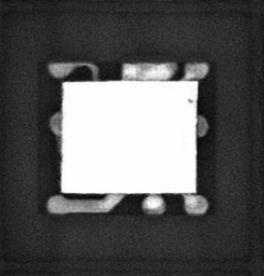DIE_INK: (184, 96, 194, 104)
